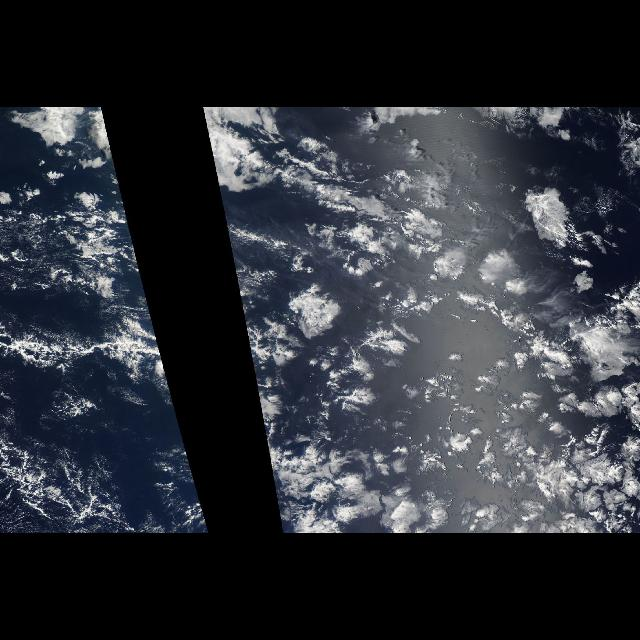Fish: (0, 306, 172, 386)
Flower: (245, 109, 640, 533)
